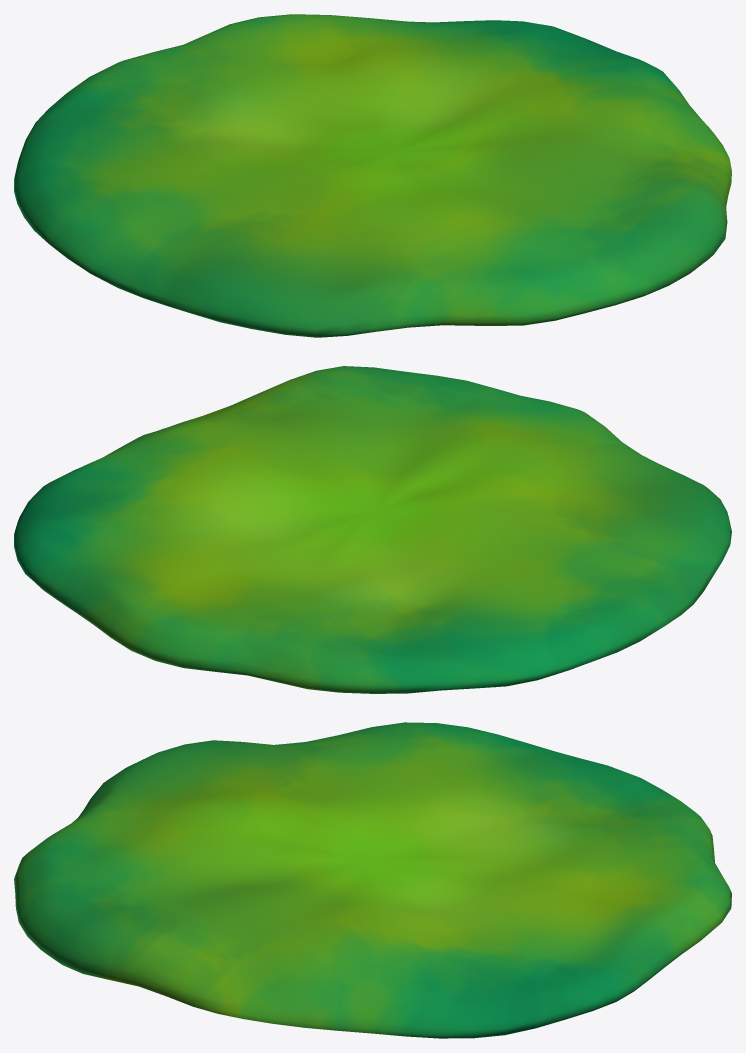
Rendered from Spillage.fbx.
3 views of the same model, one above another, from view 1: azimuth 30°, elevation 25°; view 2: azimuth 150°, elevation 25°; view 3: azimuth 270°, elevation 25° (orthographic). The views are drawn at different scales.
Visible parts, largest first — view 1: Puddle:pCylinder1; view 2: Puddle:pCylinder1; view 3: Puddle:pCylinder1.
Part boxes in pixels (box(x1,y1,x2,y2)): Puddle:pCylinder1: box(14, 14, 731, 337); Puddle:pCylinder1: box(14, 366, 731, 693); Puddle:pCylinder1: box(14, 722, 731, 1038).
Bounding box in the file's own units: 70.52 × 5.67 × 71.14.
Materials: 1 (1 with a texture image).
